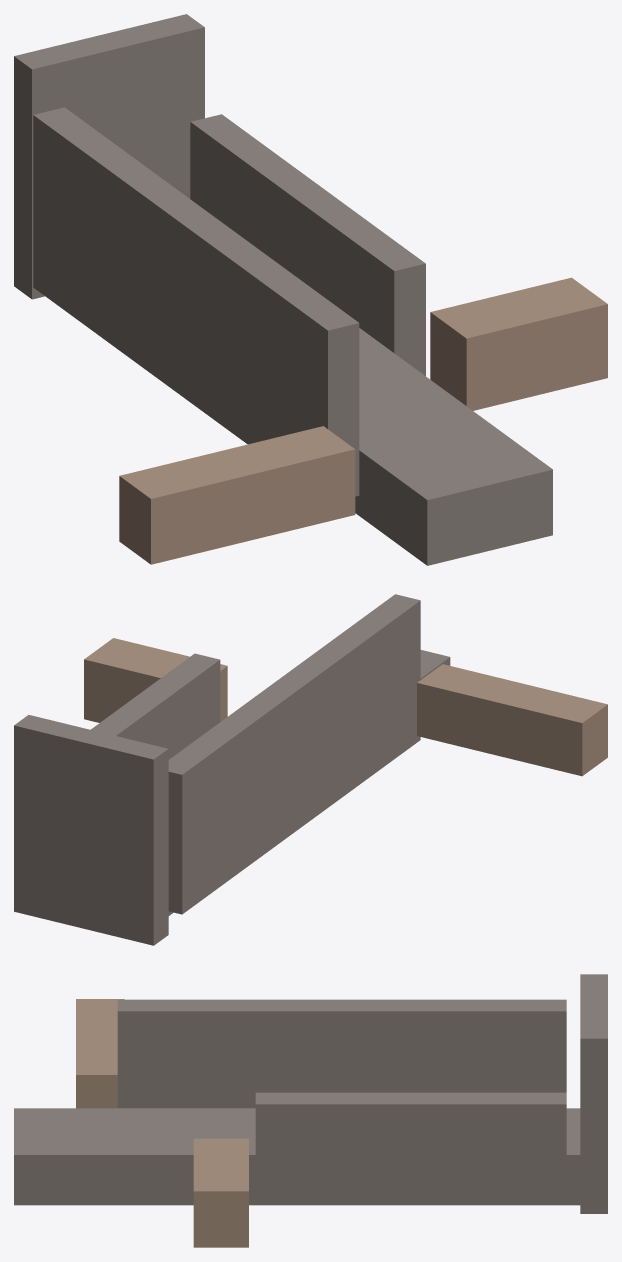
Rendered from render.glb.
The picture shows the model from 3 angles, top to bottom: view 1: azimuth 30°, elevation 25°; view 2: azimuth 150°, elevation 25°; view 3: azimuth 270°, elevation 25°; orthographic projection. The views are drawn at different scales.
Parts seen in each view (by area): view 1: BrokenNave, UnequalTransepts; view 2: BrokenNave, UnequalTransepts; view 3: BrokenNave, UnequalTransepts.
Boxes of the visible parts, box(x1,y1,x2,y2) form: BrokenNave: box(14, 14, 552, 565); UnequalTransepts: box(119, 277, 607, 564); BrokenNave: box(14, 594, 450, 945); UnequalTransepts: box(84, 638, 607, 776); BrokenNave: box(14, 974, 607, 1213); UnequalTransepts: box(76, 999, 248, 1247).
Bounding box in the file's own units: 1.36 × 0.56 × 1.72.
